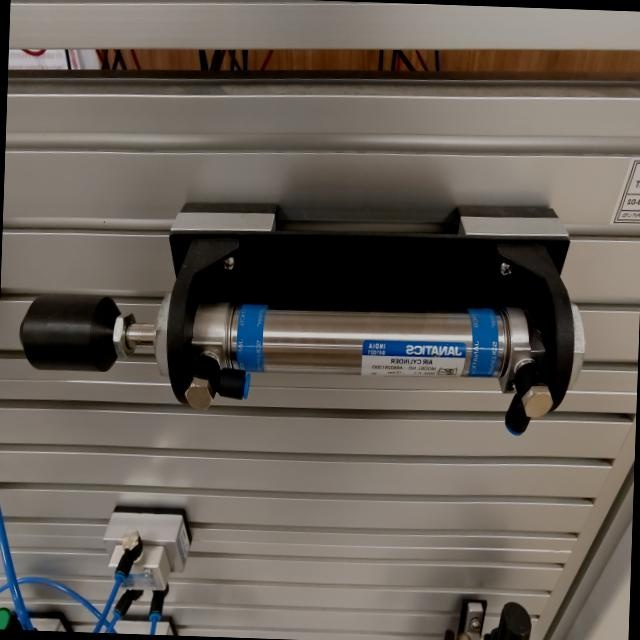double acting pneumatic cylinder: (15, 175, 591, 445)
